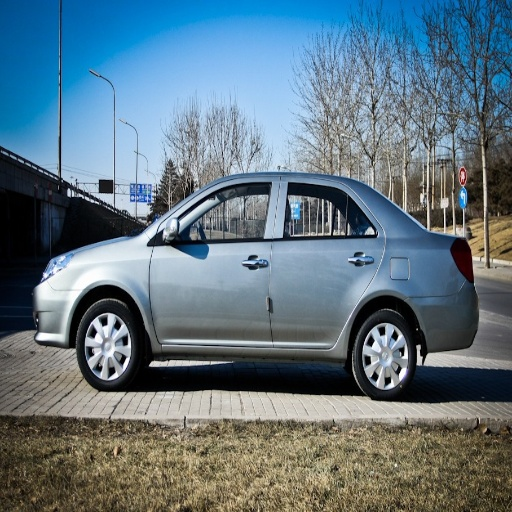back_left_door: (270, 177, 382, 349)
front_left_door: (150, 178, 280, 346)
